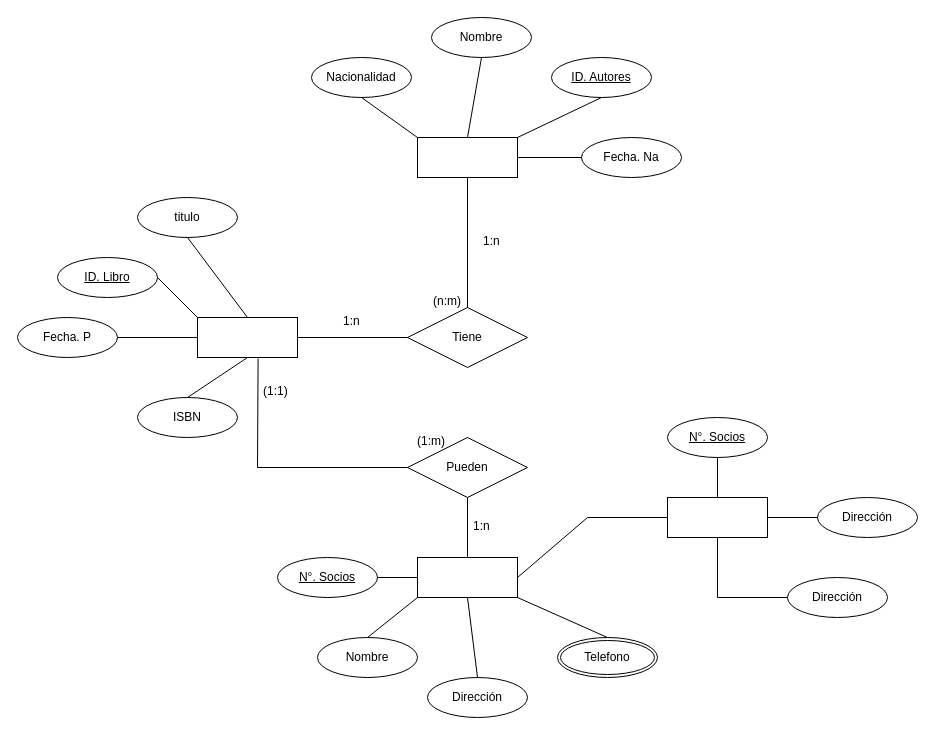
The diagram is 935 pixels wide and 735 high, and some of its shapes have lost their labels. Each missing label, with the centre of its shape:
"Autores" goes at pixel 467 157.
"Libro" goes at pixel 247 337.
"Prestamo" goes at pixel 717 517.
"Socios" goes at pixel 467 577.
